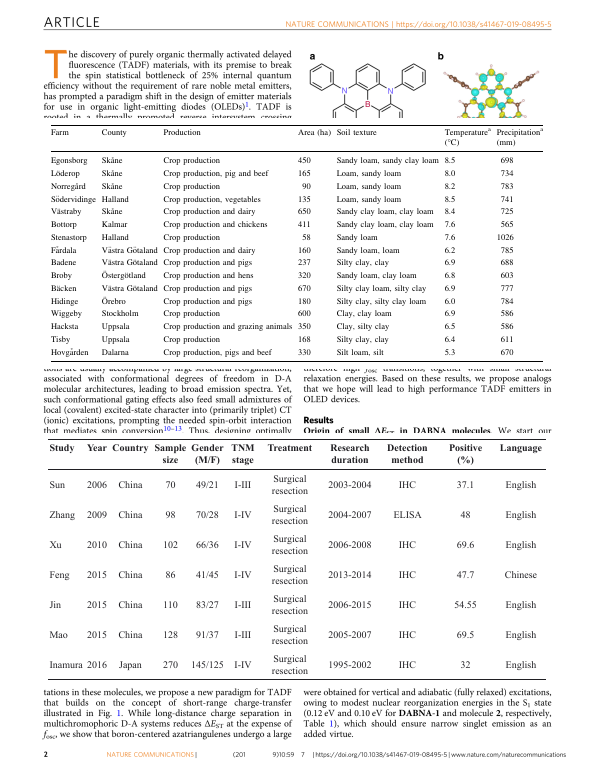borderless: (47, 438, 546, 679), (50, 123, 543, 361)
cell: (162, 322, 293, 332), (162, 348, 272, 358), (443, 126, 492, 148), (495, 126, 544, 148), (162, 169, 269, 179), (162, 220, 268, 230), (335, 157, 440, 167), (162, 195, 261, 205), (335, 208, 434, 218), (335, 220, 434, 230), (386, 444, 428, 467), (329, 444, 370, 467), (162, 208, 256, 218), (162, 246, 256, 256), (270, 504, 309, 528), (162, 271, 254, 281), (335, 284, 427, 294), (335, 297, 427, 307), (162, 259, 253, 269), (162, 284, 253, 294), (162, 297, 253, 307), (270, 475, 309, 498), (270, 534, 309, 557), (270, 564, 309, 587), (270, 594, 309, 617), (270, 624, 309, 647), (270, 654, 309, 677), (335, 271, 417, 281), (448, 444, 483, 467), (153, 444, 187, 467), (190, 444, 224, 467), (335, 169, 402, 179), (335, 182, 402, 192), (335, 195, 402, 205), (335, 246, 400, 256), (162, 157, 221, 167), (162, 182, 221, 192), (162, 233, 221, 243), (162, 310, 221, 320), (162, 335, 221, 345), (100, 246, 158, 256), (100, 259, 158, 269), (100, 284, 158, 294), (230, 444, 255, 467), (335, 310, 392, 320), (335, 322, 390, 332), (335, 259, 389, 269), (335, 335, 389, 345), (327, 510, 372, 522), (266, 444, 313, 455), (100, 270, 146, 281), (498, 444, 543, 455), (327, 481, 372, 492), (327, 540, 372, 551), (327, 570, 372, 581), (327, 600, 372, 611), (327, 630, 372, 641), (327, 660, 372, 671), (335, 348, 384, 358), (50, 195, 97, 205), (335, 233, 378, 243), (335, 128, 377, 138), (111, 444, 149, 455), (504, 510, 537, 522), (162, 128, 201, 138), (100, 310, 139, 320), (50, 348, 89, 358), (503, 570, 538, 581), (48, 660, 83, 671), (50, 157, 88, 167), (190, 660, 224, 671), (50, 233, 87, 243), (504, 481, 537, 492), (504, 540, 537, 551), (504, 600, 537, 611), (504, 630, 537, 641), (504, 660, 537, 671), (50, 182, 86, 192), (392, 510, 422, 522), (297, 128, 332, 138), (48, 510, 76, 522), (50, 310, 83, 320), (50, 208, 82, 218), (100, 295, 126, 307), (117, 510, 143, 522), (50, 169, 80, 179), (100, 322, 130, 332), (100, 335, 130, 345), (48, 444, 75, 455), (100, 195, 129, 205), (100, 233, 129, 243), (50, 297, 79, 307), (50, 322, 79, 332), (100, 348, 129, 358), (195, 510, 219, 522), (117, 481, 143, 492), (117, 540, 143, 551), (117, 570, 143, 581), (117, 600, 143, 611), (117, 630, 143, 641), (100, 220, 128, 230), (100, 128, 127, 138), (50, 220, 77, 230), (50, 246, 77, 256), (50, 259, 77, 269), (50, 284, 77, 294), (195, 481, 219, 492), (86, 510, 108, 522), (195, 540, 219, 551), (195, 570, 219, 581), (195, 600, 219, 611), (453, 600, 477, 611), (195, 630, 219, 641), (118, 660, 142, 671), (100, 156, 123, 167), (100, 207, 123, 218), (86, 444, 108, 455), (85, 481, 107, 492), (85, 540, 107, 551), (48, 570, 70, 581), (86, 570, 108, 581), (86, 600, 108, 611), (86, 630, 108, 641), (86, 660, 108, 671), (100, 169, 123, 179), (100, 182, 123, 192), (50, 271, 73, 281), (233, 510, 252, 522), (397, 481, 417, 492), (455, 481, 475, 492), (397, 540, 417, 551), (455, 540, 475, 551), (397, 570, 417, 581), (455, 570, 475, 581), (397, 600, 417, 611), (48, 630, 68, 641), (397, 630, 417, 641), (455, 630, 475, 641), (397, 660, 417, 671), (50, 335, 71, 345), (233, 481, 252, 492), (233, 540, 252, 551), (233, 570, 252, 581), (233, 600, 252, 611), (233, 630, 252, 641), (233, 660, 252, 671), (49, 128, 69, 138), (48, 481, 66, 492), (495, 233, 514, 243), (162, 540, 179, 551), (162, 630, 179, 641), (162, 660, 179, 671), (162, 600, 178, 611), (48, 540, 62, 551), (48, 600, 62, 611), (499, 157, 514, 167), (499, 169, 514, 179), (499, 182, 514, 192), (499, 195, 514, 205), (499, 208, 514, 218), (499, 220, 514, 230), (499, 246, 514, 256), (499, 259, 514, 269), (499, 271, 514, 281), (499, 284, 514, 294), (499, 297, 514, 307), (499, 310, 514, 320), (499, 322, 514, 332), (499, 335, 514, 345), (499, 348, 514, 358), (164, 510, 176, 522), (459, 510, 471, 522), (297, 157, 311, 167), (297, 169, 311, 179), (297, 195, 311, 205), (297, 208, 311, 218), (297, 220, 311, 230), (297, 246, 311, 256), (297, 259, 311, 269), (297, 271, 311, 281), (297, 284, 311, 294), (297, 297, 311, 307), (297, 310, 311, 320), (297, 322, 311, 332), (297, 335, 311, 345), (297, 348, 311, 358), (164, 481, 176, 492), (164, 570, 176, 581), (459, 660, 471, 671), (443, 157, 456, 167), (443, 169, 456, 179), (443, 182, 456, 192), (443, 195, 456, 205), (443, 208, 456, 218), (443, 220, 456, 230), (443, 233, 456, 243), (443, 246, 456, 256), (443, 259, 456, 269), (443, 271, 456, 281), (443, 284, 456, 294), (443, 297, 456, 307), (443, 310, 456, 320), (443, 322, 456, 332), (443, 335, 456, 345), (443, 348, 456, 358), (301, 182, 311, 192), (301, 233, 311, 243)
